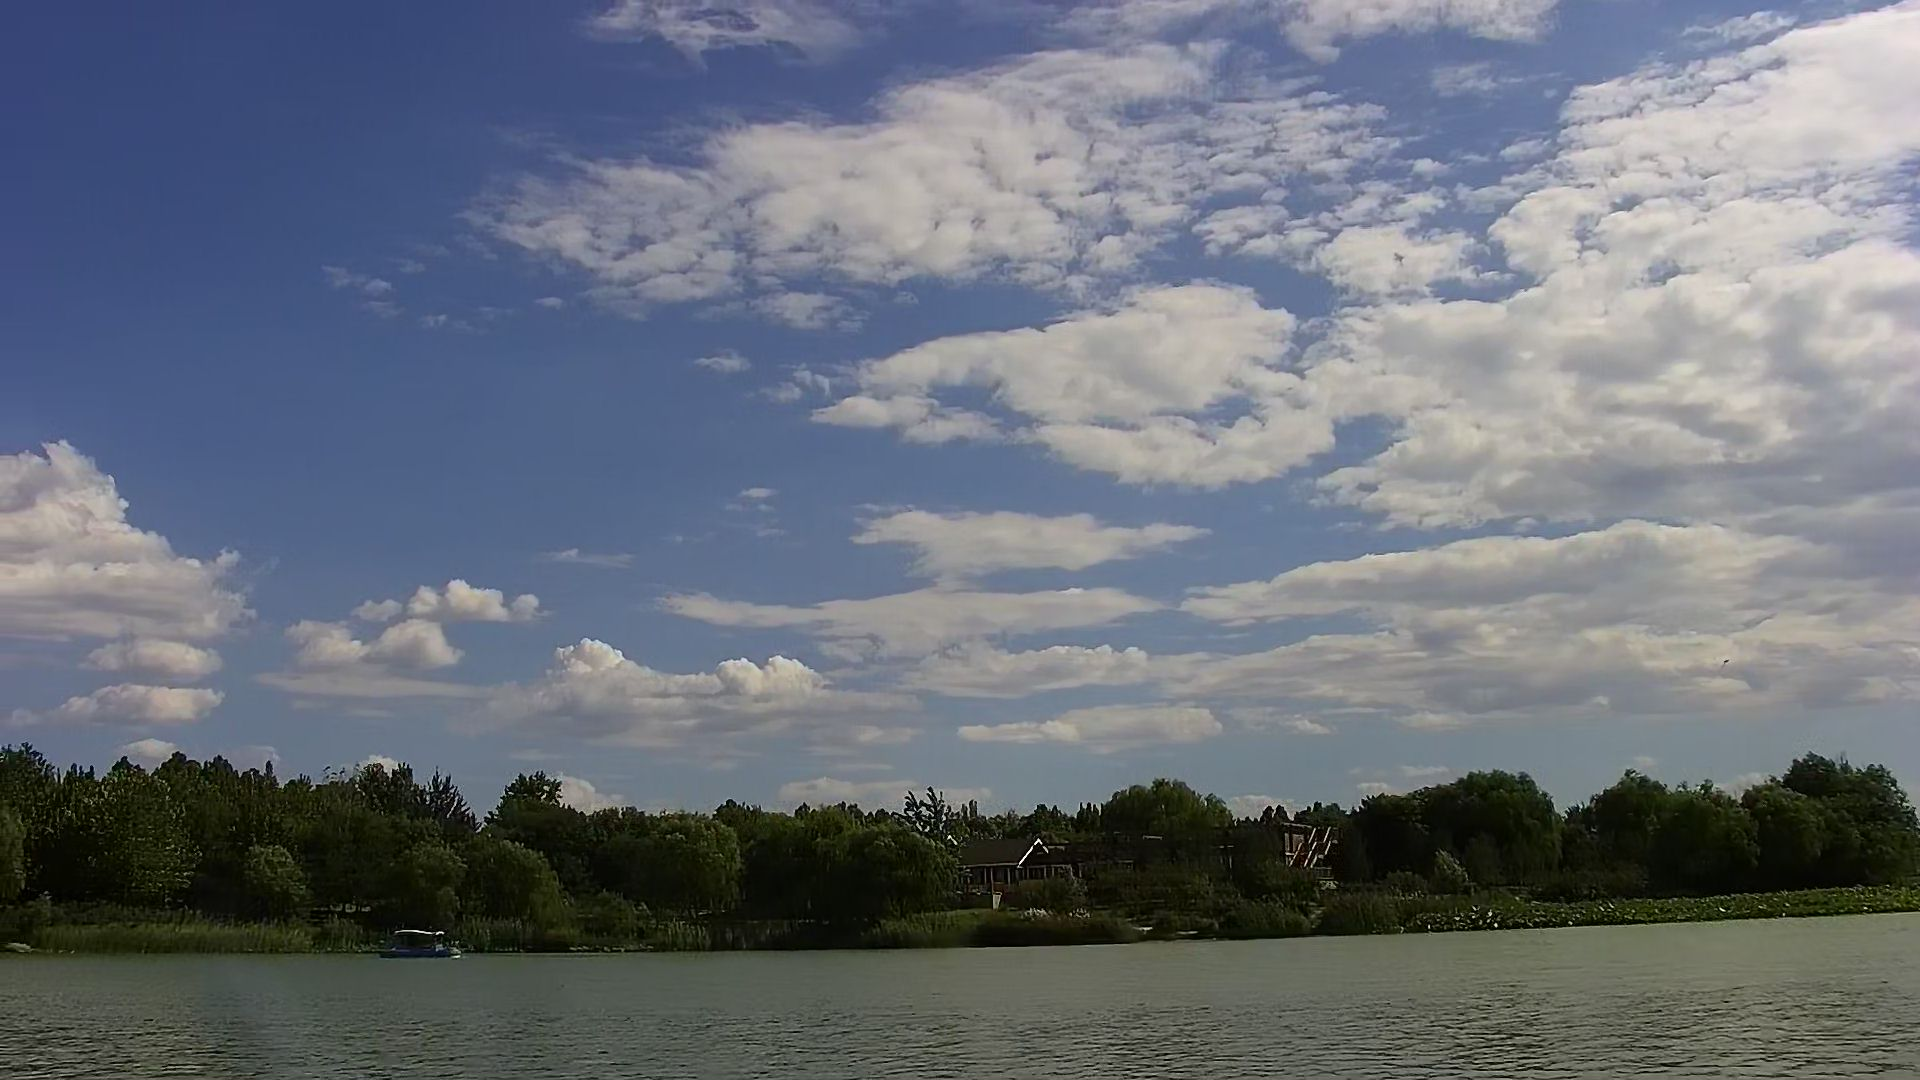boat: (368, 920, 465, 967)
